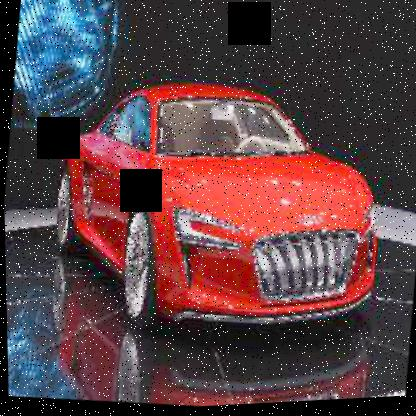not_emergency: (26, 47, 411, 372)
